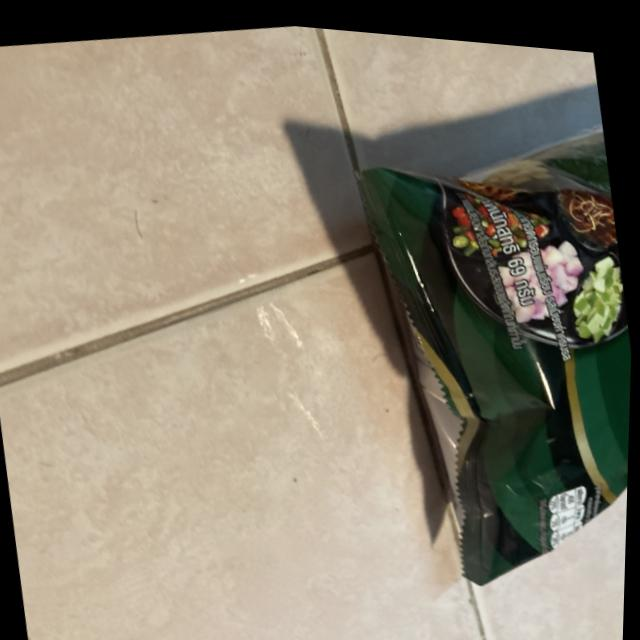Laygreen: (315, 77, 639, 640)
